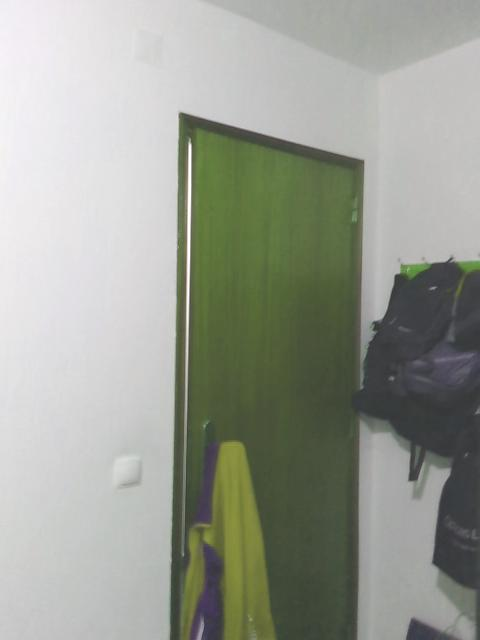closed_door: (172, 111, 362, 639)
